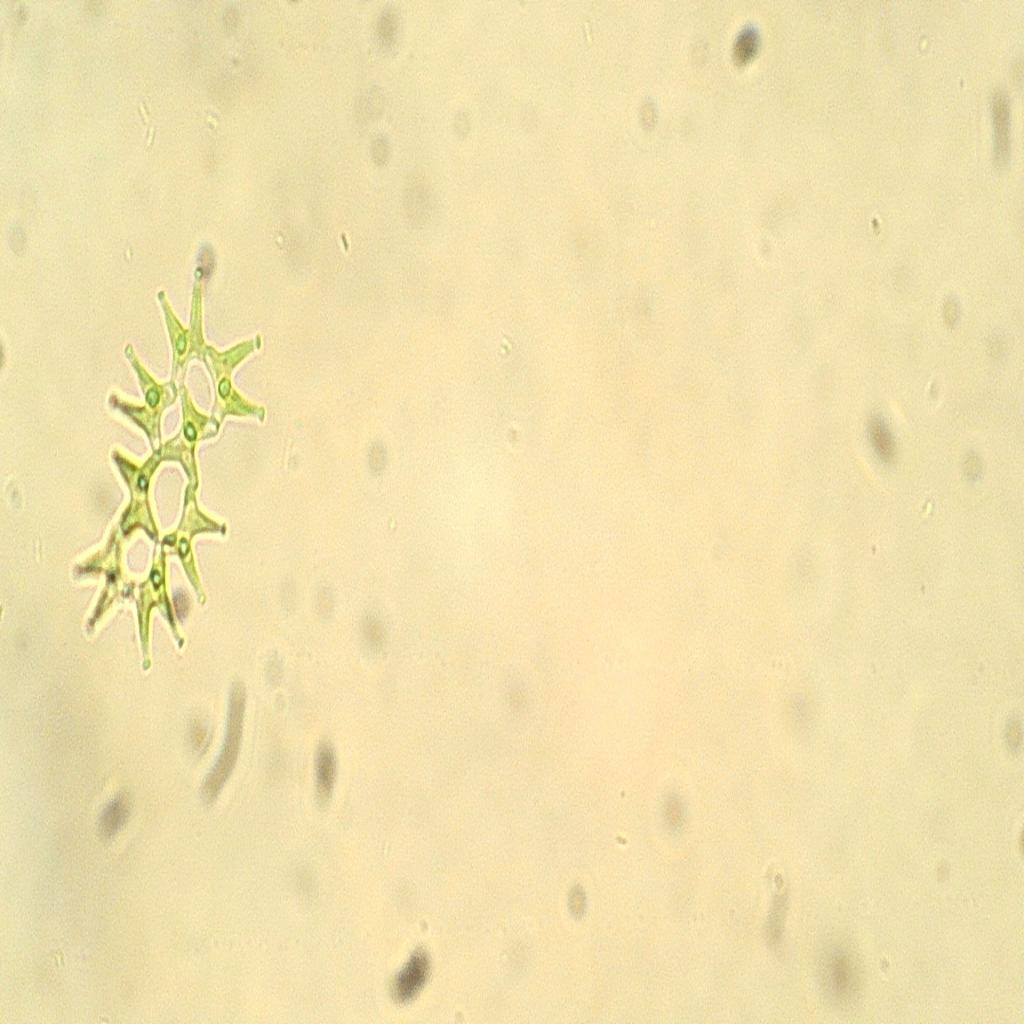Pediastrum_1TH: (67, 243, 275, 697)
